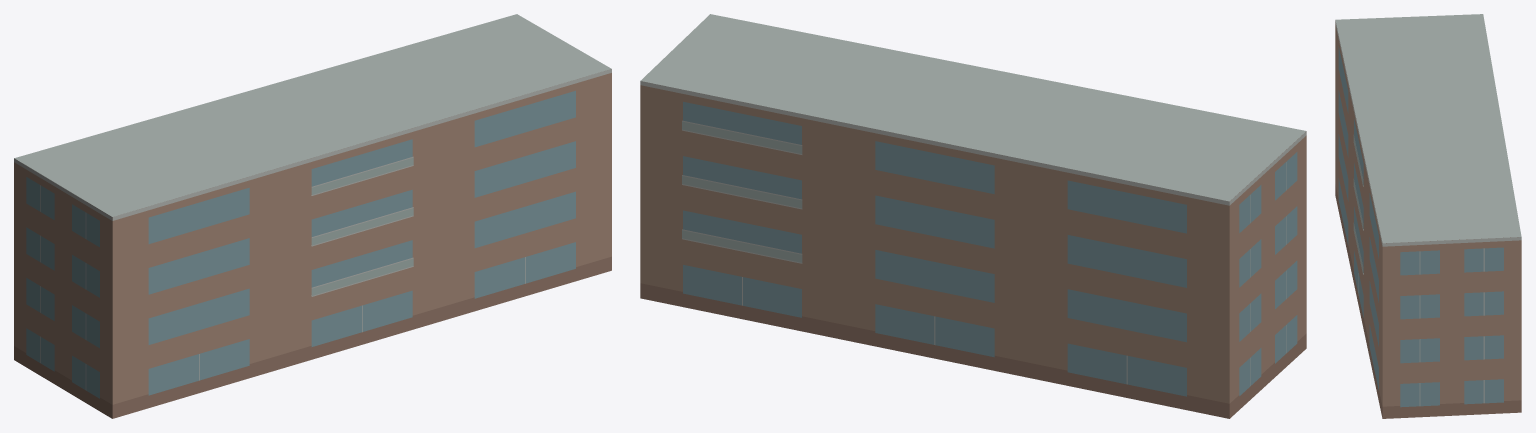
Rendered from survey-upis-32764105.glb.
3 views of the same model, side by side, from view 1: azimuth 30°, elevation 25°; view 2: azimuth 150°, elevation 25°; view 3: azimuth 270°, elevation 25° (orthographic). The views are drawn at different scales.
Visible parts, largest first — view 1: survey-upis-32764105.tmp; view 2: survey-upis-32764105.tmp; view 3: survey-upis-32764105.tmp.
Part boxes in pixels (x1,y1,x2,y2): survey-upis-32764105.tmp: (14, 14, 611, 418); survey-upis-32764105.tmp: (640, 14, 1306, 418); survey-upis-32764105.tmp: (1335, 14, 1521, 418).
Bounding box in the file's own units: 35.01 × 12.5 × 12.02.
